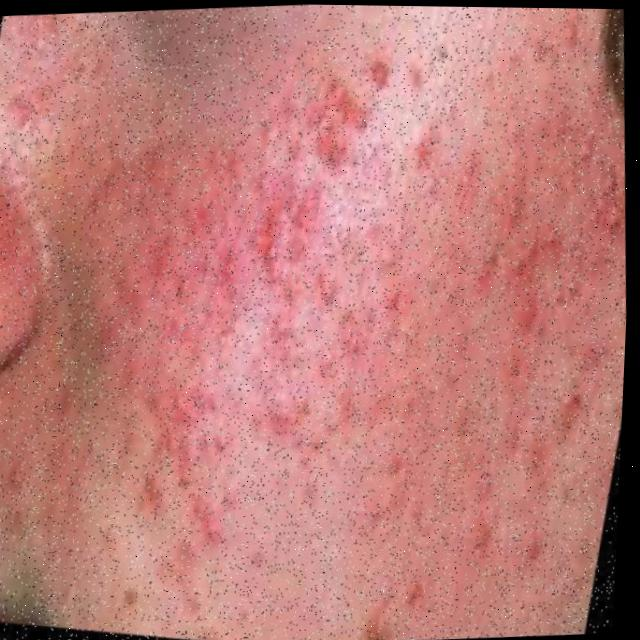Acne: (77, 2, 640, 628)
